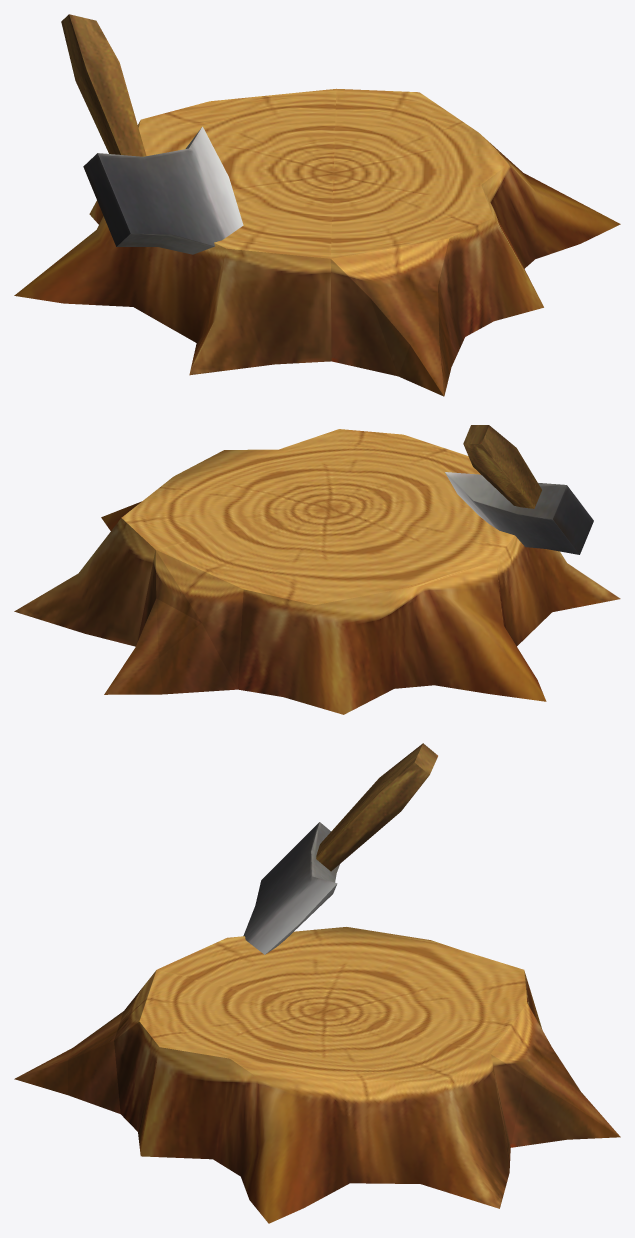
File: Shuzhuan01.FBX
3 views of the same model, one above another, from view 1: azimuth 30°, elevation 25°; view 2: azimuth 150°, elevation 25°; view 3: azimuth 270°, elevation 25° (orthographic). The views are drawn at different scales.
Visible parts, largest first — view 1: Cylinder010; view 2: Cylinder010; view 3: Cylinder010.
Boxes of the visible parts, box(x1,y1,x2,y2) form: Cylinder010: box(14, 14, 620, 396); Cylinder010: box(14, 425, 620, 714); Cylinder010: box(14, 743, 620, 1223).
Size of the model in its own units: 93.33 by 45.15 by 95.99.
